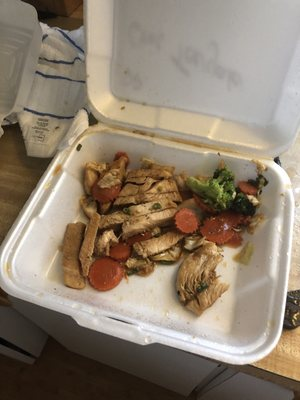curry: (185, 168, 259, 216), (185, 167, 237, 211)
